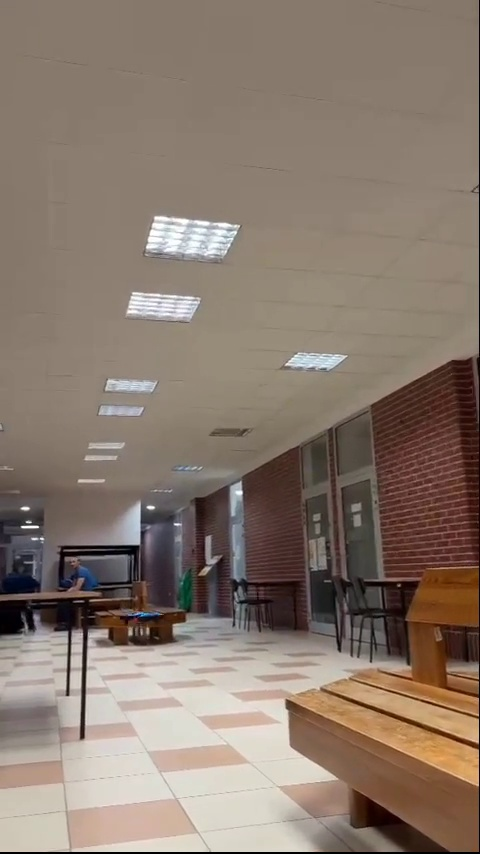drone: (129, 610, 159, 625)
no vest: (59, 554, 99, 614)
